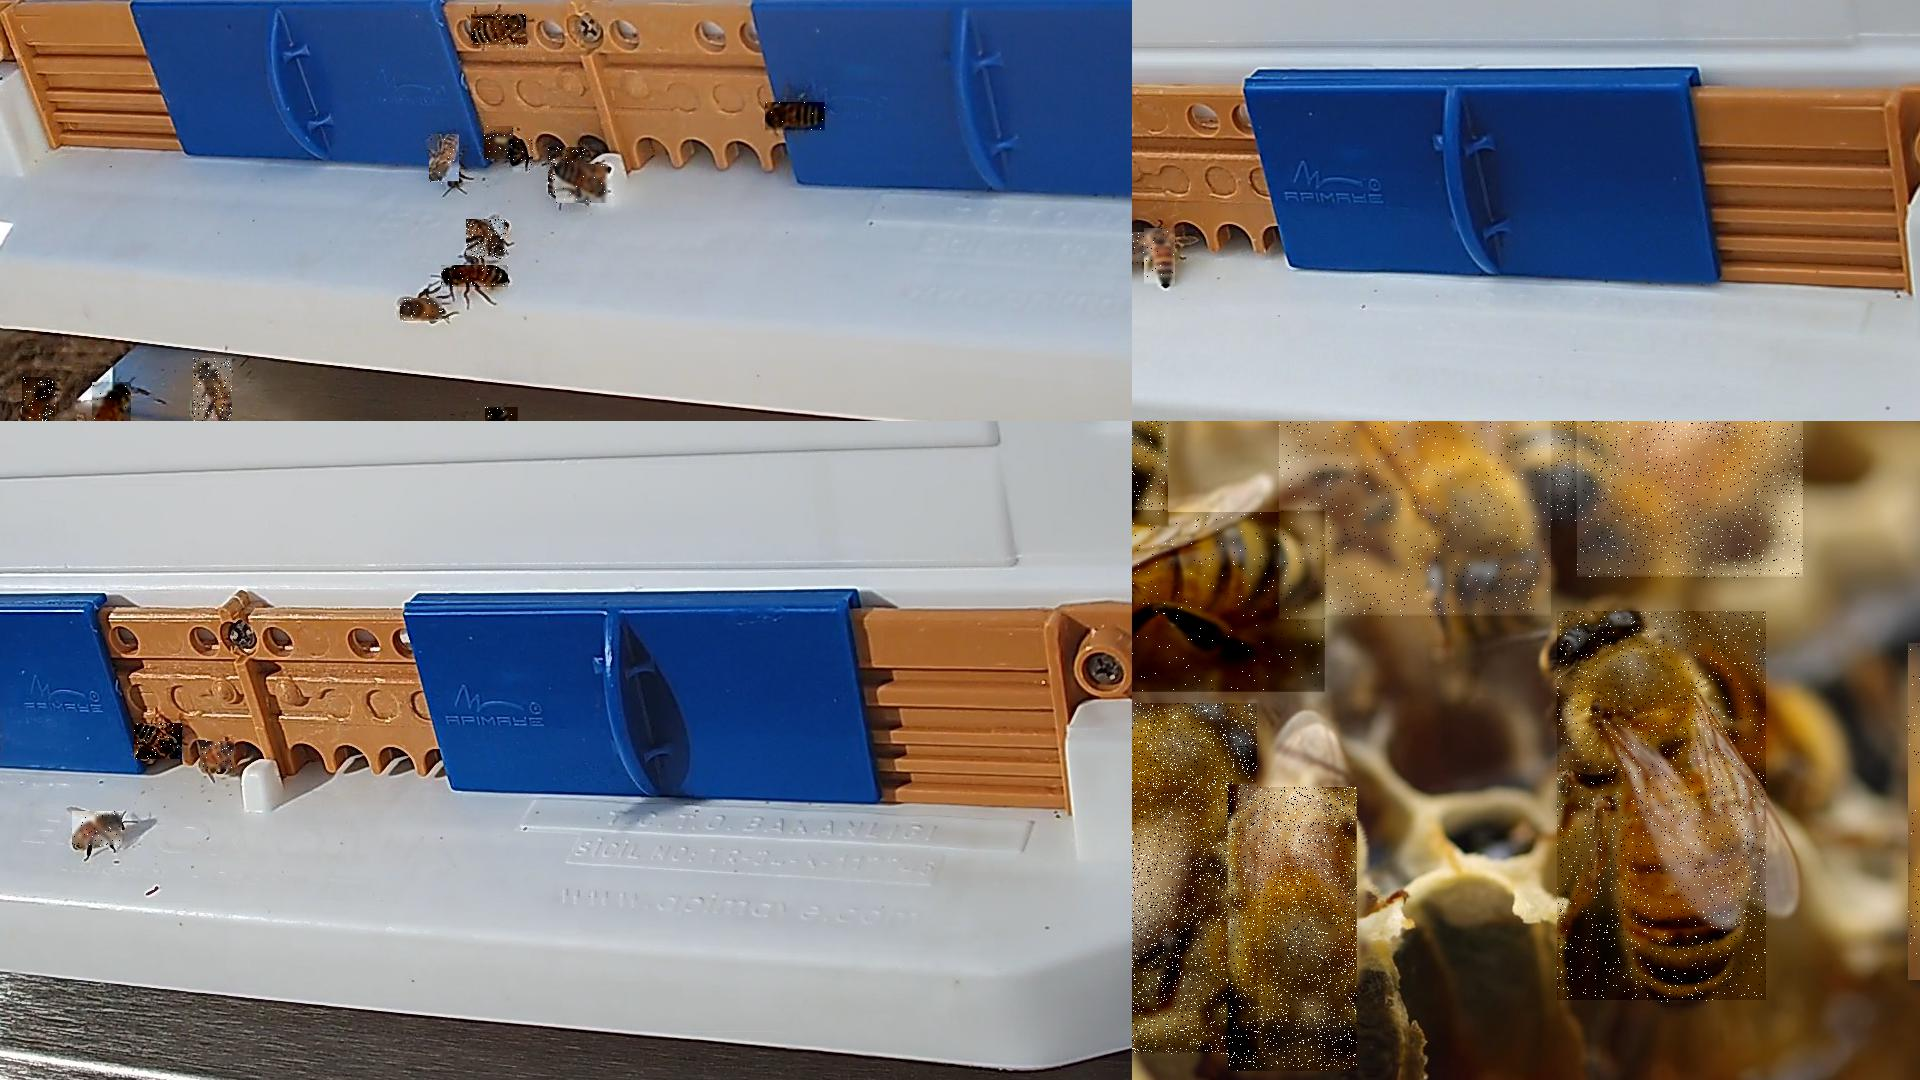bee: (1557, 612, 1767, 1004), (1279, 421, 1553, 618), (1131, 703, 1259, 1056), (1228, 787, 1358, 1072), (1577, 421, 1805, 580), (1131, 512, 1327, 694), (1487, 421, 1611, 524), (193, 357, 233, 419), (556, 164, 611, 204), (471, 15, 527, 49), (549, 148, 587, 198), (765, 103, 827, 133), (73, 812, 124, 848), (135, 723, 183, 760), (467, 220, 509, 261), (440, 266, 509, 291), (429, 135, 460, 186), (22, 376, 57, 419), (200, 741, 235, 771), (401, 298, 444, 322), (509, 140, 534, 171), (485, 407, 520, 419)
pollenbee: (1145, 229, 1176, 287), (92, 382, 133, 419), (484, 127, 514, 160), (1131, 232, 1155, 265)
